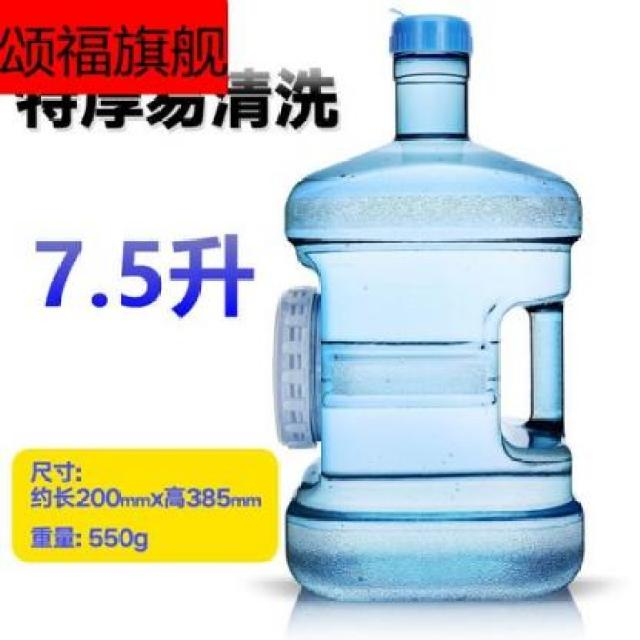coolerbottle: (272, 12, 596, 613)
